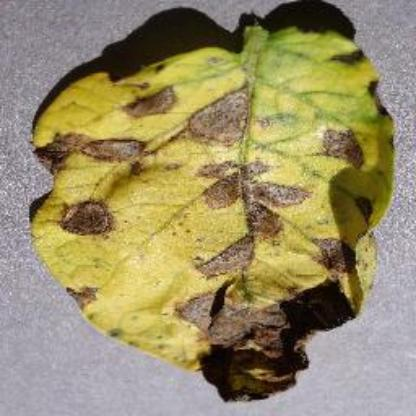Early-Blight: (30, 17, 397, 403)
